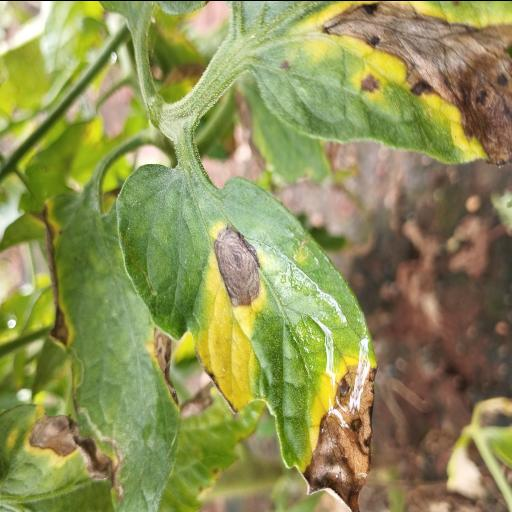Early Blight: (114, 157, 380, 512), (230, 0, 511, 171)
